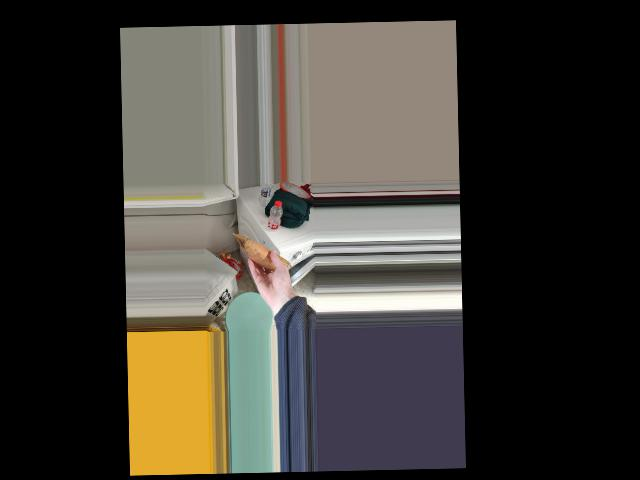sweet_potato: (248, 239, 281, 270)
